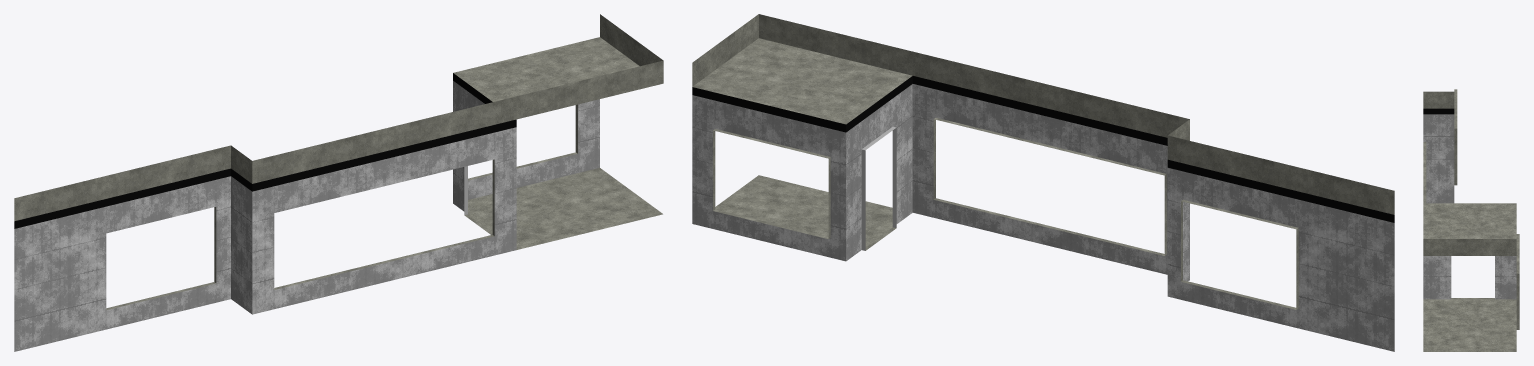
File: outwall.glb
The picture shows the model from 3 angles, left to right: view 1: azimuth 30°, elevation 25°; view 2: azimuth 150°, elevation 25°; view 3: azimuth 270°, elevation 25°; orthographic projection. The views are drawn at different scales.
Parts seen in each view (by area): view 1: Hall2.001; view 2: Hall2.001; view 3: Hall2.001.
Boxes of the visible parts, x1,y1,x2,y2 form: Hall2.001: [14, 14, 663, 351]; Hall2.001: [692, 14, 1394, 351]; Hall2.001: [1423, 89, 1519, 351].
Bounding box in the file's own units: 17.1 × 4 × 3.1.
4 materials, 2 textured.
